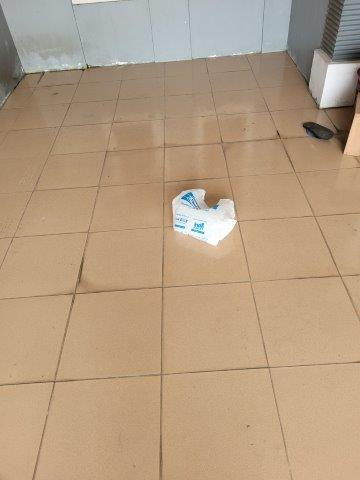plastik: (170, 187, 240, 247)
